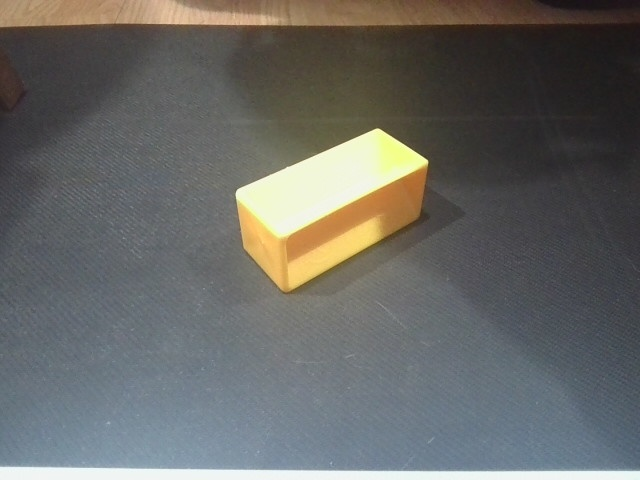YellowSample: (233, 125, 433, 294)
